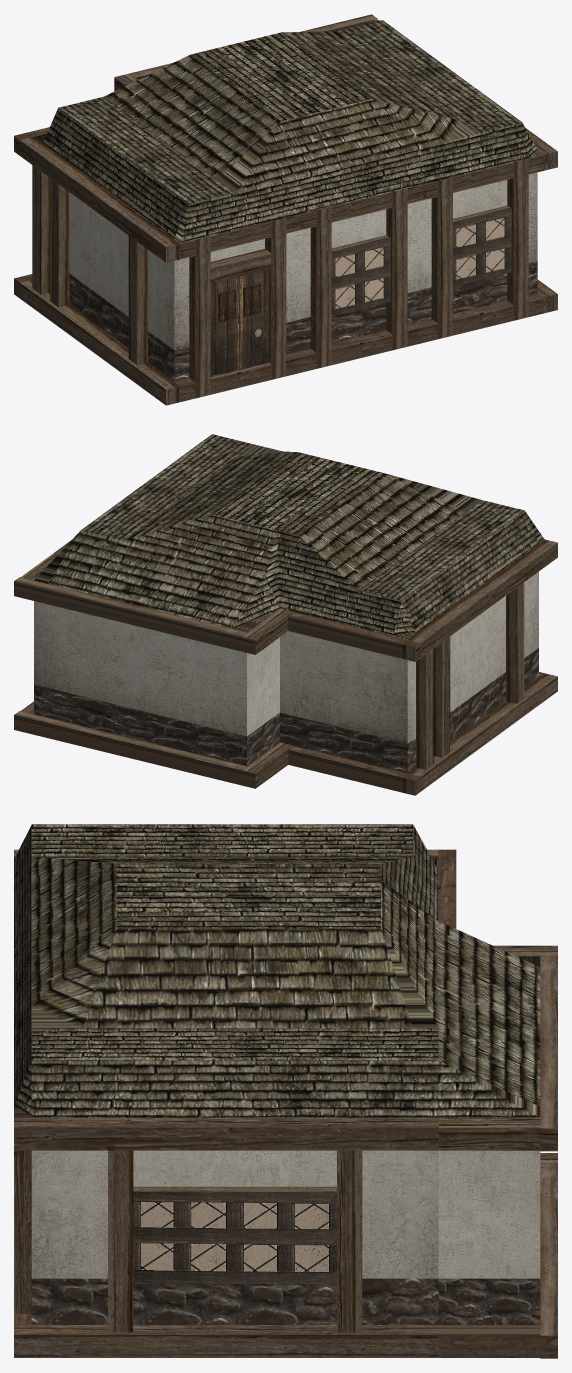
File: TownHouse1.fbx
3 views of the same model, one above another, from view 1: azimuth 30°, elevation 25°; view 2: azimuth 150°, elevation 25°; view 3: azimuth 270°, elevation 25° (orthographic). The views are drawn at different scales.
Parts seen in each view (by area): view 1: Cube_001; view 2: Cube_001; view 3: Cube_001.
Boxes of the visible parts, <box> form: Cube_001: <box>14,14,557,405</box>; Cube_001: <box>14,434,557,795</box>; Cube_001: <box>14,824,557,1358</box>.
Size of the model in its own units: 12.1 by 6.53 by 9.98.
1 material, 1 textured.
